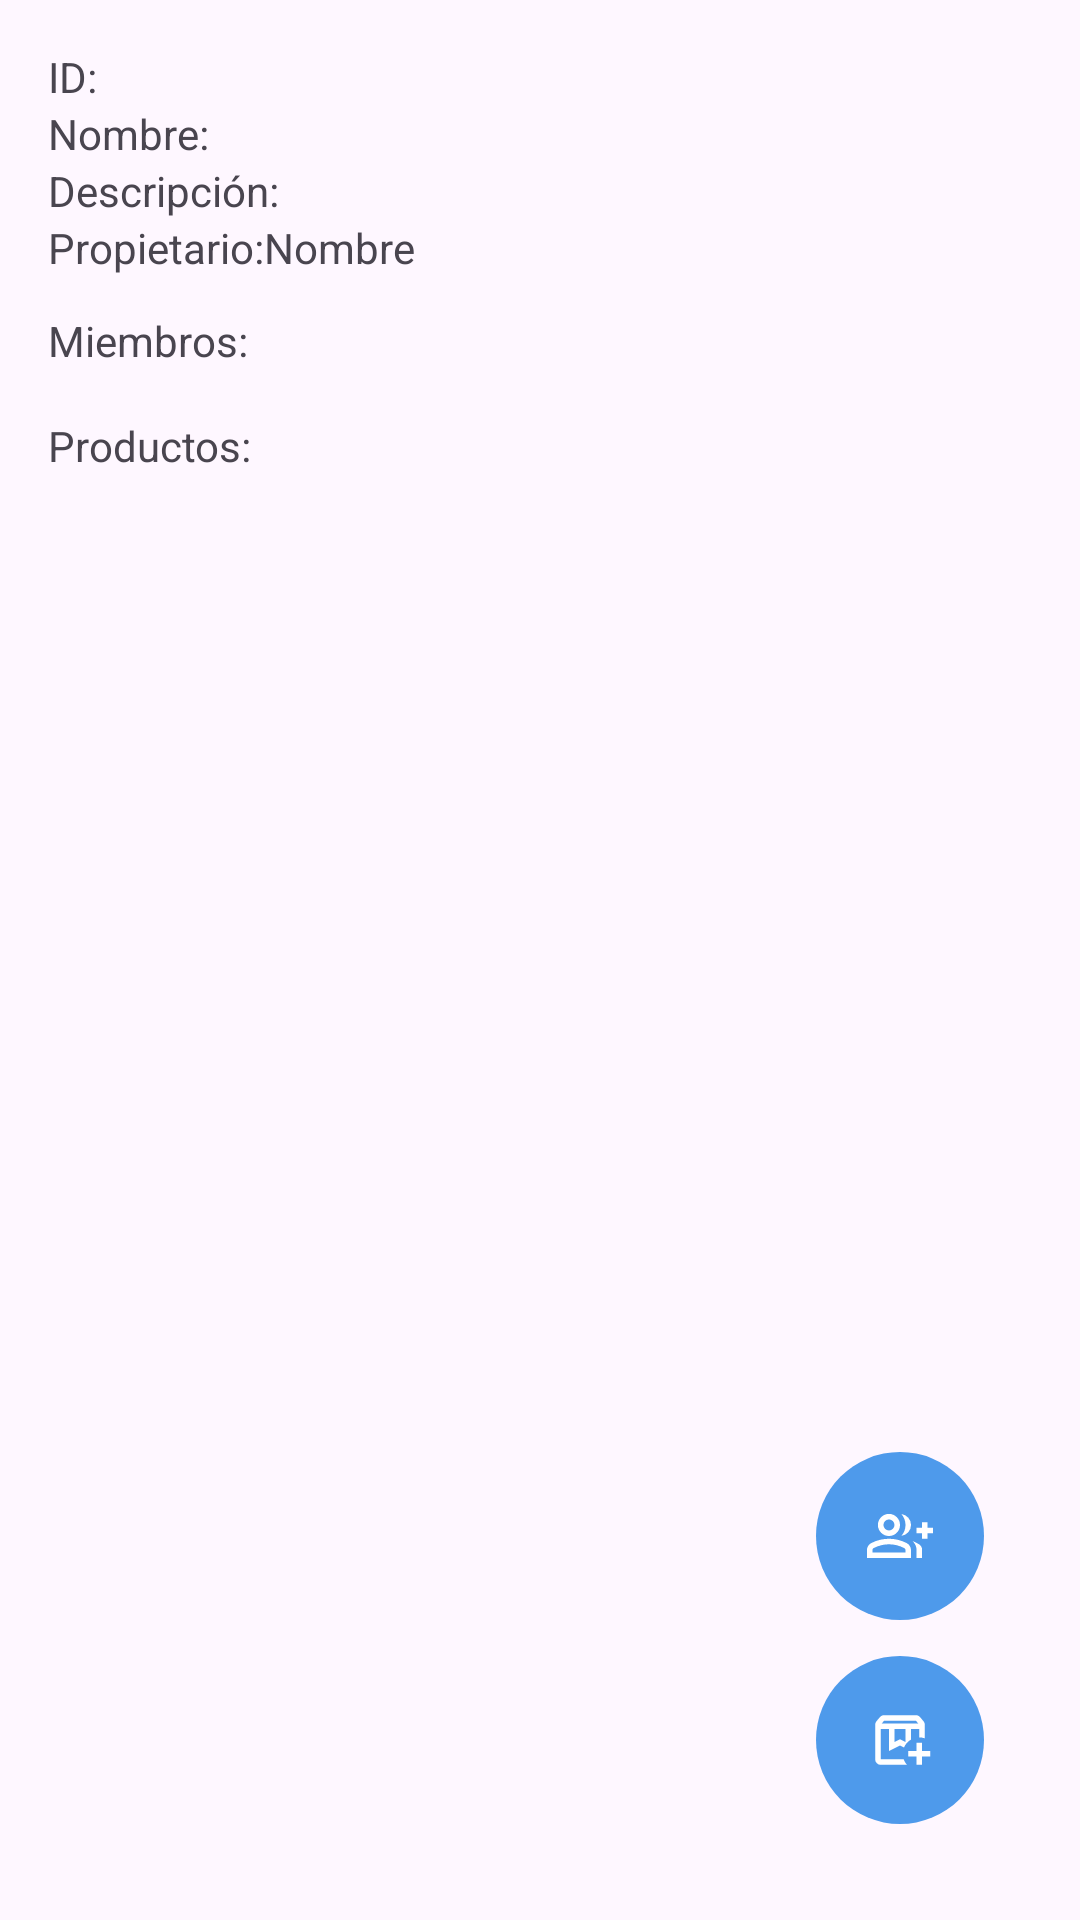

Where icons sit on this 1080×1920 app screen, as (x1,y1,x2,y2):
Añadir miembro: (816,1452,984,1620)
Añadir producto: (816,1656,984,1824)
